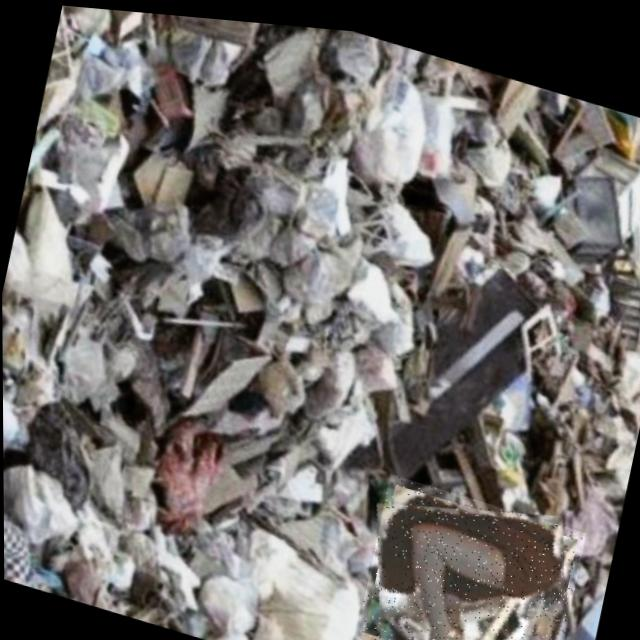Person in Rubble: (353, 463, 585, 640)
